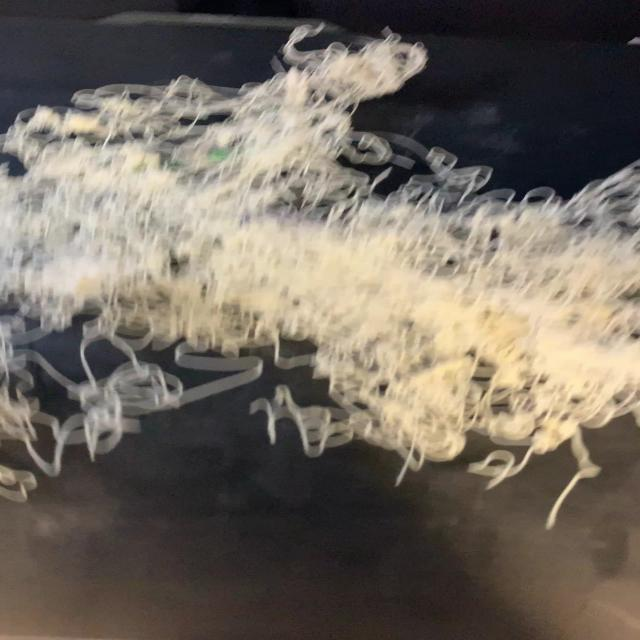spaghetti: (4, 21, 636, 529)
